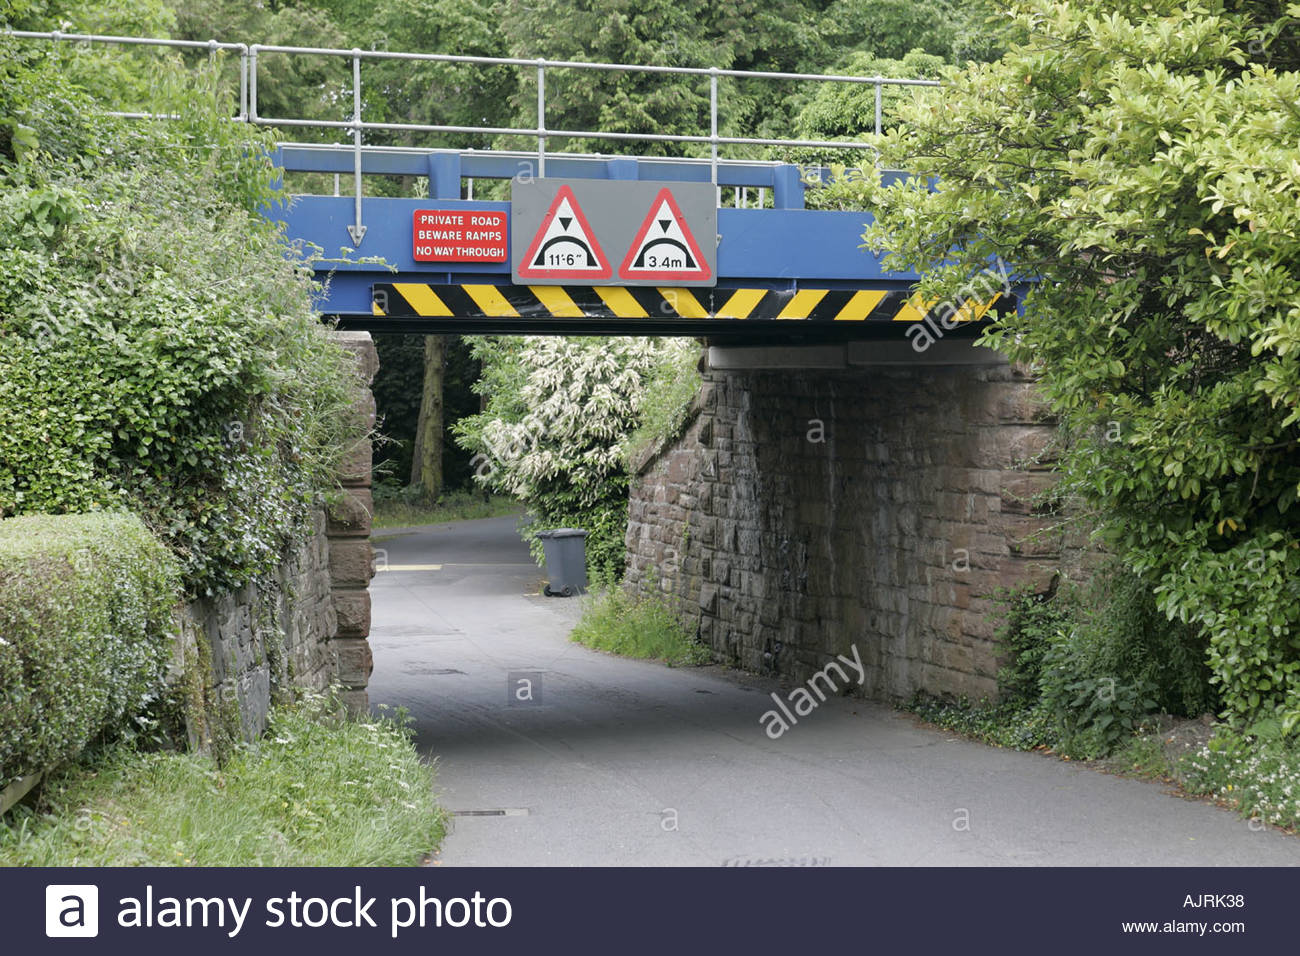bridge: (236, 123, 1014, 327)
